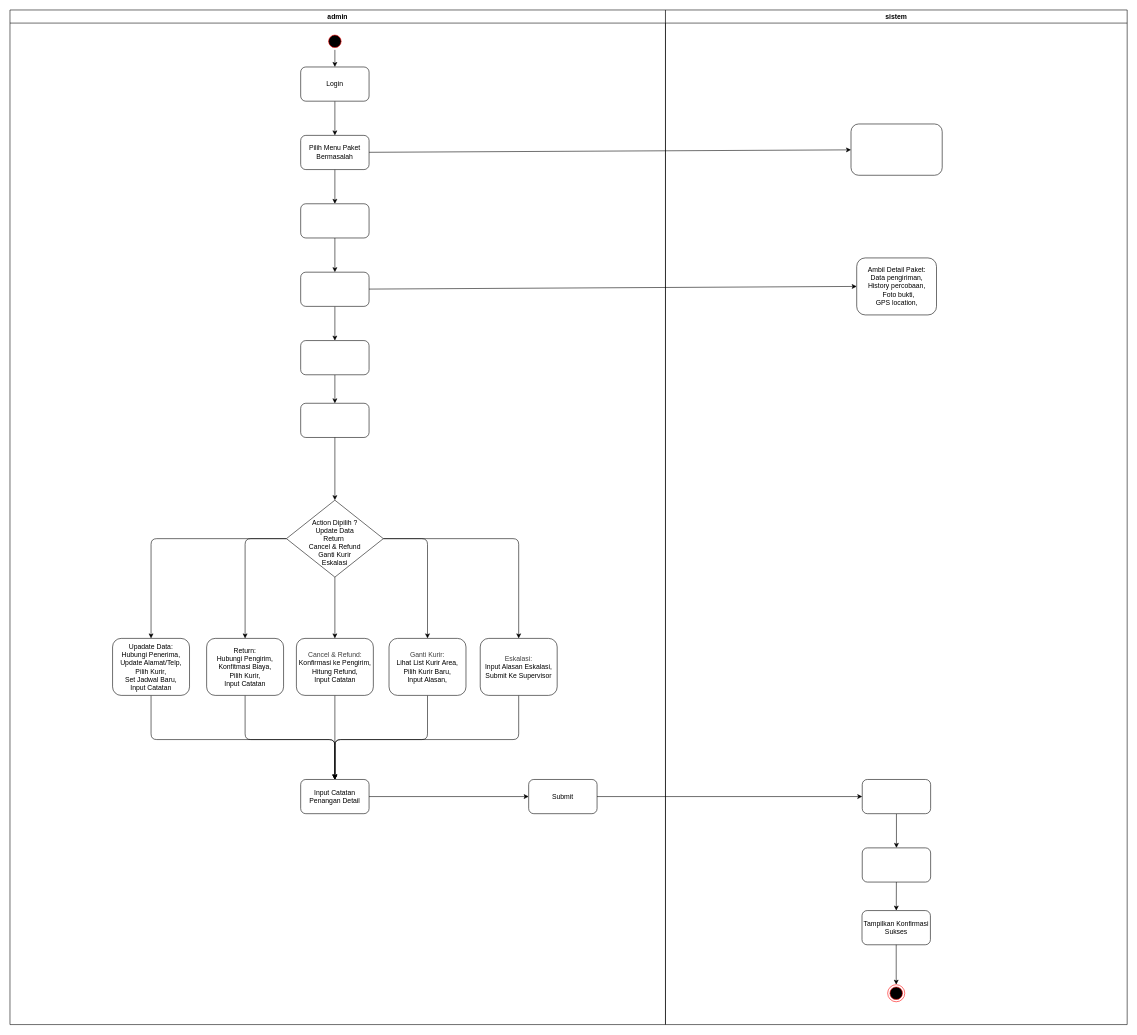
This 1137x1035 diagram has some shape labels left out. Here are the shapes that lost their labels. From the top down, the centre of each, then its label:
the point at 896,149: Menampilkan Data Paket Bermasalah: Gagal 3x, Tertuda >7 hari, Komplain
the point at 334,220: Filter / Search Paket
the point at 334,289: Pilih Paket yang Akan Ditangani
the point at 334,357: Analisis Masalah
the point at 334,420: Pilih Action
the point at 896,796: Update Status Paket
the point at 896,864: Kirim Niotifikasi: Pengirim, Penerima
